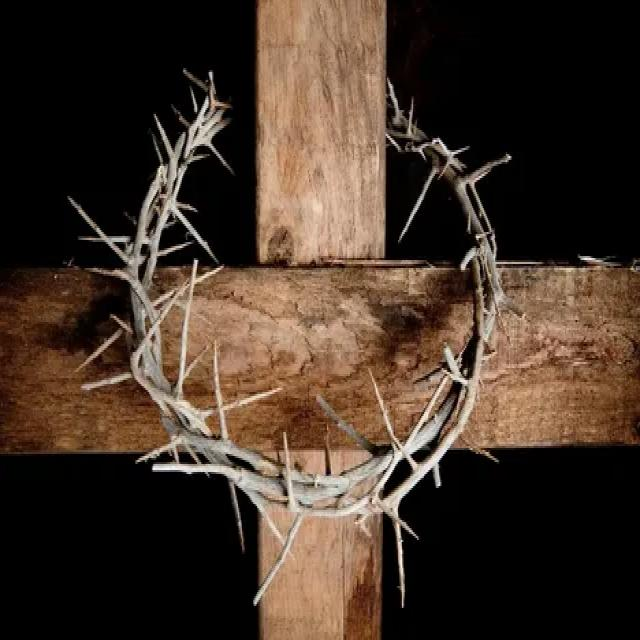crown: (92, 56, 515, 518)
